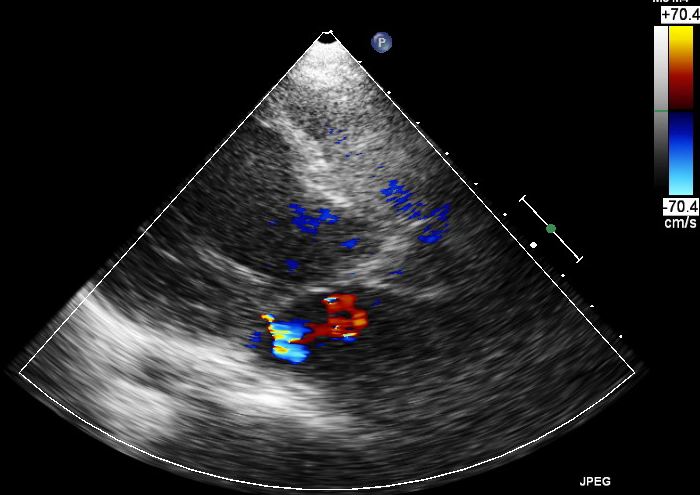MR: (267, 279, 306, 363)
